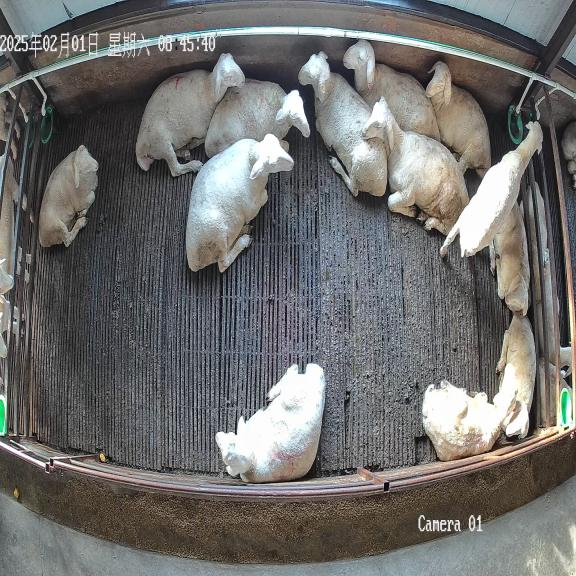lying: (186, 133, 293, 272), (362, 97, 468, 234), (135, 53, 245, 177), (441, 125, 541, 257), (216, 364, 325, 483), (299, 52, 389, 196), (343, 39, 441, 140), (422, 363, 518, 460), (205, 79, 310, 158), (426, 61, 491, 178), (39, 144, 98, 247), (495, 310, 536, 439), (489, 202, 530, 315)
